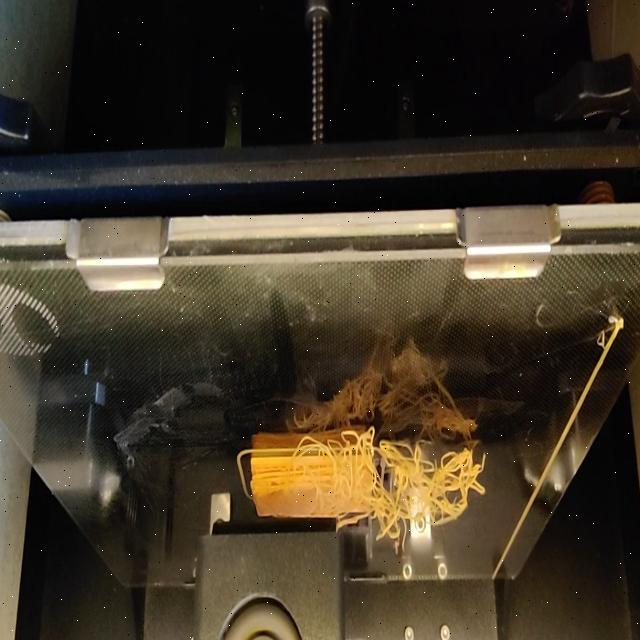spaghetti: (338, 418, 486, 552), (298, 428, 340, 522)
